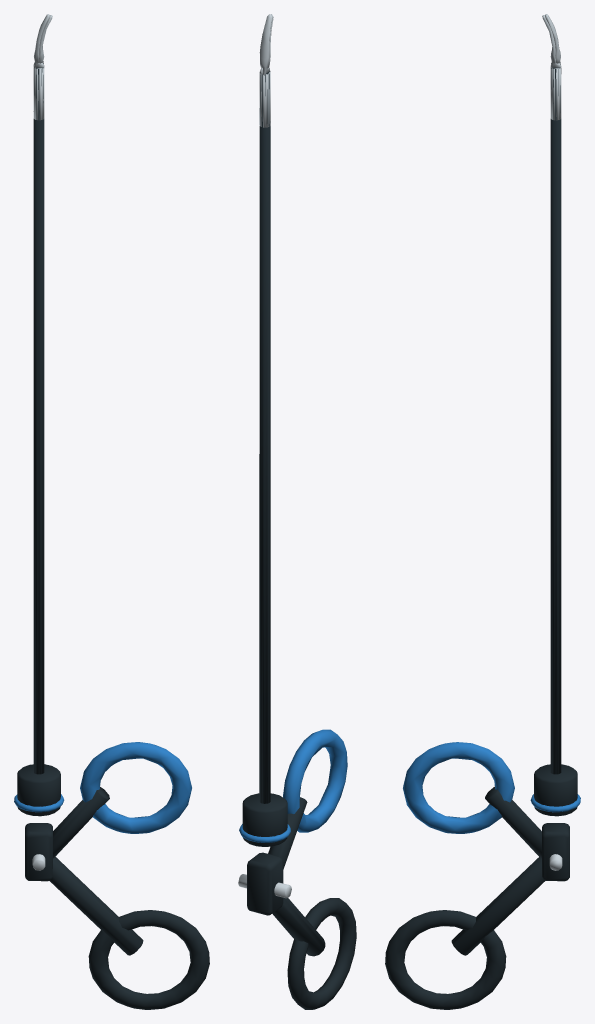
Rendered from inst_maryland_dissector.fbx.
3 views of the same model, side by side, from view 1: azimuth 90°, elevation 25°; view 2: azimuth 150°, elevation 25°; view 3: azimuth 270°, elevation 25° (orthographic). The views are drawn at different scales.
Parts seen in each view (by area): view 1: inst_maryland_dissector_Geometry, Trigger_Geometry; view 2: inst_maryland_dissector_Geometry, Trigger_Geometry, JawLower_Geometry; view 3: inst_maryland_dissector_Geometry, Trigger_Geometry.
Boxes of the visible parts, left/top/right/bottom form: inst_maryland_dissector_Geometry: left=14, top=66, right=209, bottom=1009; Trigger_Geometry: left=53, top=742, right=191, bottom=858; inst_maryland_dissector_Geometry: left=238, top=71, right=356, bottom=1009; Trigger_Geometry: left=268, top=729, right=347, bottom=869; JawLower_Geometry: left=259, top=14, right=272, bottom=75; inst_maryland_dissector_Geometry: left=385, top=67, right=580, bottom=1009; Trigger_Geometry: left=403, top=742, right=541, bottom=858.
Size of the model in its own units: 0.024 by 0.4982 by 0.0888.
